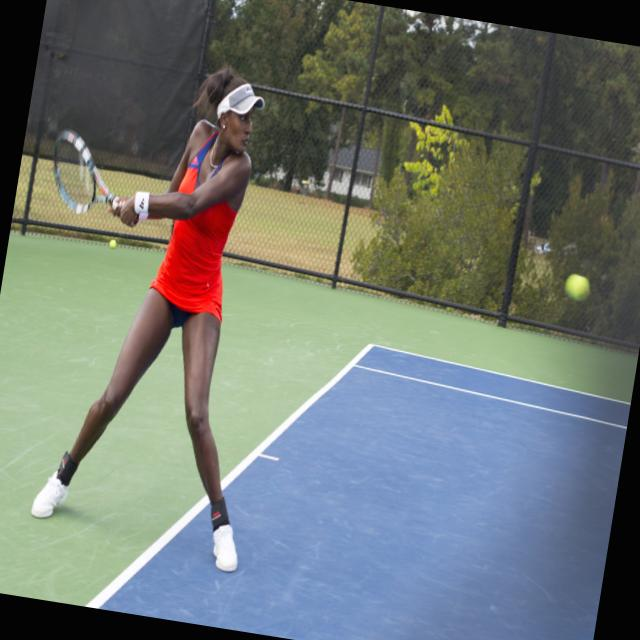Tennis Ball: (565, 273, 592, 299), (110, 237, 118, 249)
